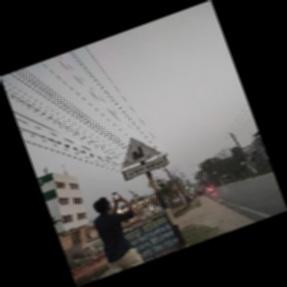Mosque in front: (121, 137, 168, 182)
